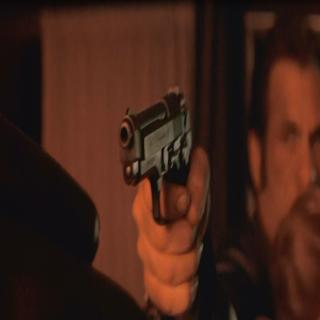gun: (117, 83, 204, 305)
